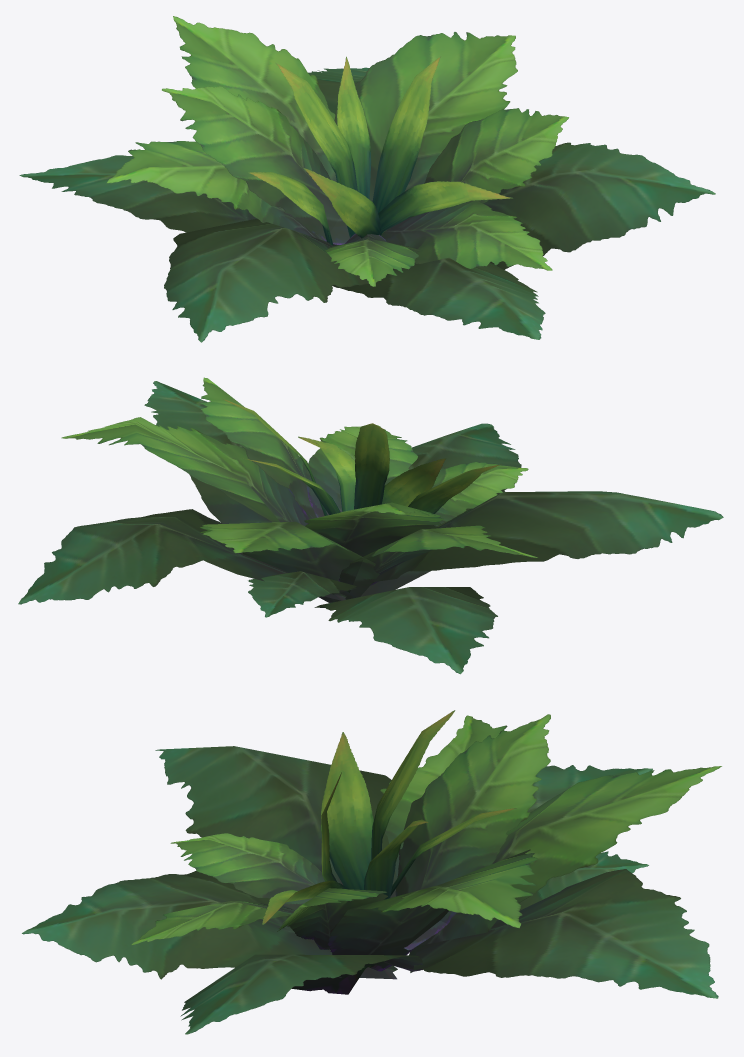
Rendered from fb_qqs_gm_01.FBX.
3 renders of one model, top to bottom at view 1: azimuth 30°, elevation 25°; view 2: azimuth 150°, elevation 25°; view 3: azimuth 270°, elevation 25°, orthographic. The views are drawn at different scales.
Parts seen in each view (by area): view 1: fb_qqs_gm_01; view 2: fb_qqs_gm_01; view 3: fb_qqs_gm_01.
Part boxes in pixels (left/top/right/bottom): fb_qqs_gm_01: left=19, top=16, right=715, bottom=342; fb_qqs_gm_01: left=18, top=377, right=723, bottom=674; fb_qqs_gm_01: left=22, top=710, right=721, bottom=1034.
Size of the model in its own units: 467 by 176 by 468.
